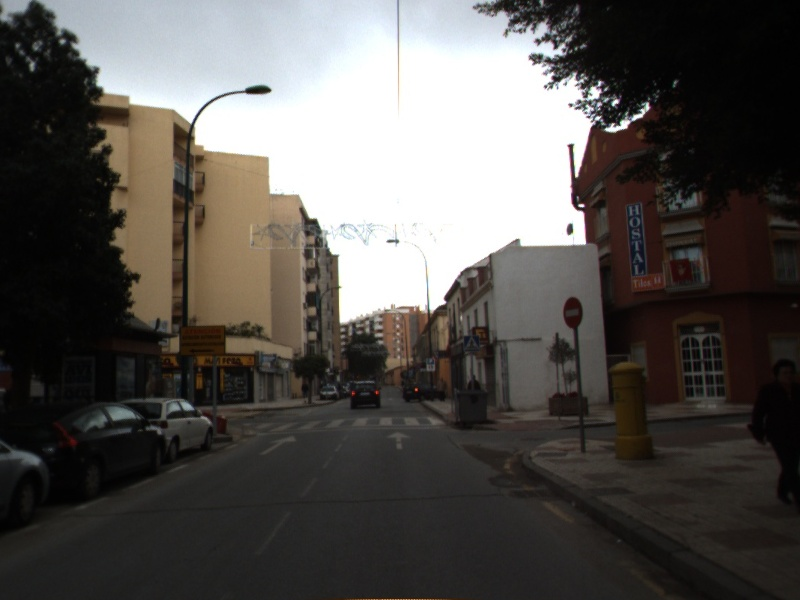STRAIGHT: (256, 433, 299, 457), (384, 429, 414, 451)
